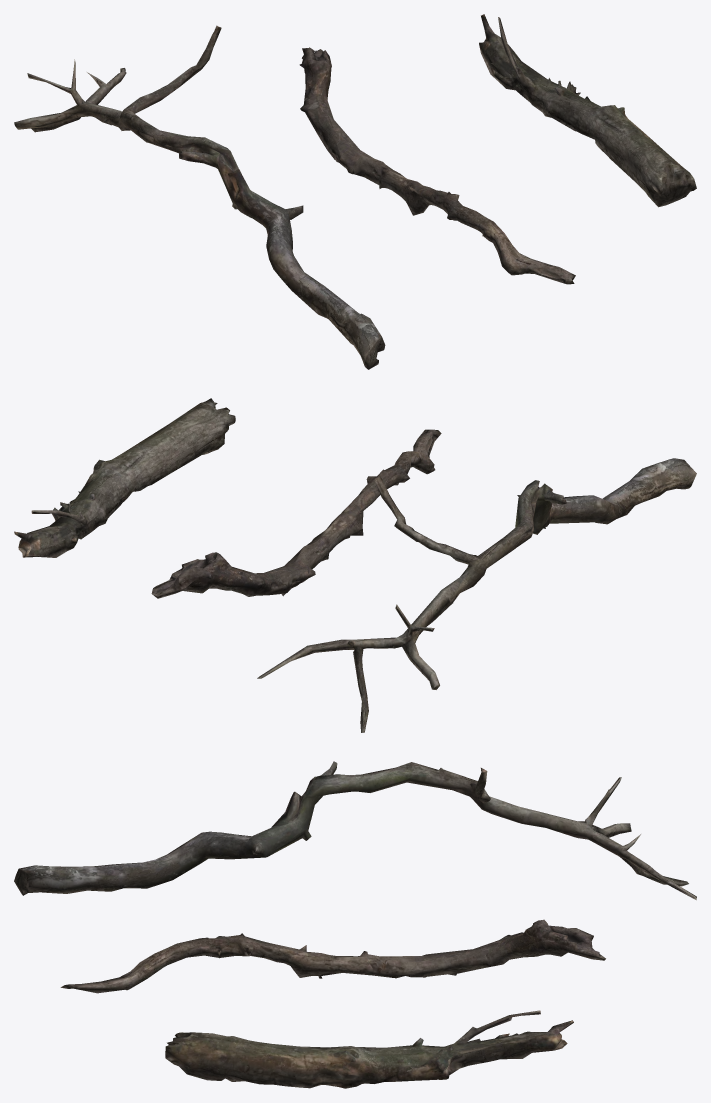
Rendered from branches.glb.
3 renders of one model, top to bottom at view 1: azimuth 30°, elevation 25°; view 2: azimuth 150°, elevation 25°; view 3: azimuth 270°, elevation 25°, orthographic. The views are drawn at different scales.
Parts seen in each view (by area): view 1: dry_branches_medium_01_a, dry_branches_medium_01_c, dry_branches_medium_01_b; view 2: dry_branches_medium_01_a, dry_branches_medium_01_c, dry_branches_medium_01_b; view 3: dry_branches_medium_01_a, dry_branches_medium_01_c, dry_branches_medium_01_b.
Part boxes in pixels (x1=…): dry_branches_medium_01_a: x1=14, y1=25, x2=385, y2=369; dry_branches_medium_01_c: x1=479, y1=14, x2=696, y2=207; dry_branches_medium_01_b: x1=299, y1=47, x2=575, y2=284; dry_branches_medium_01_a: x1=257, y1=458, x2=696, y2=732; dry_branches_medium_01_c: x1=14, y1=398, x2=235, y2=557; dry_branches_medium_01_b: x1=151, y1=429, x2=441, y2=598; dry_branches_medium_01_a: x1=14, y1=761, x2=696, y2=900; dry_branches_medium_01_c: x1=165, y1=1010, x2=573, y2=1088; dry_branches_medium_01_b: x1=60, y1=919, x2=605, y2=993.
Bounding box in the file's own units: 1.06 × 0.3401 × 1.3.
1 material, 1 textured.
